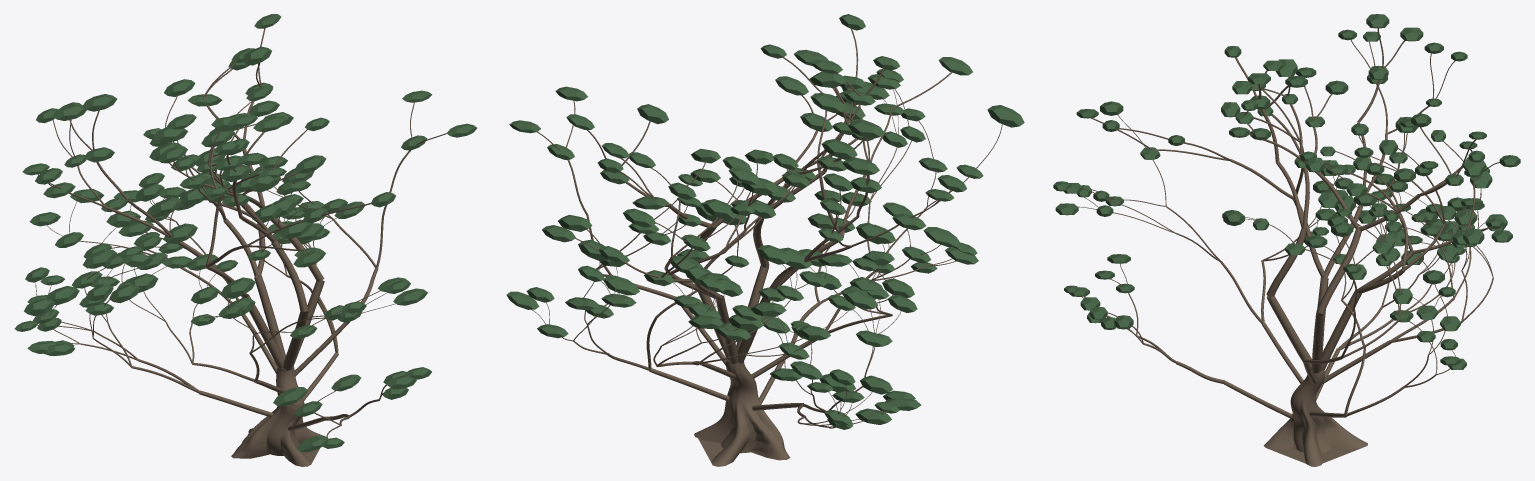
File: small_tree_2026-04-26T09-28-49-832Z.glb
The picture shows the model from 3 angles, left to right: view 1: azimuth 30°, elevation 25°; view 2: azimuth 150°, elevation 25°; view 3: azimuth 270°, elevation 25°; orthographic projection. The views are drawn at different scales.
Visible parts, largest first — view 1: rainforest_giant; view 2: rainforest_giant; view 3: rainforest_giant.
Part boxes in pixels (x1,y1,x2,y2): rainforest_giant: (14,14,476,466); rainforest_giant: (506,14,1024,466); rainforest_giant: (1053,14,1520,466).
Size of the model in its own units: 129 by 109 by 129.
